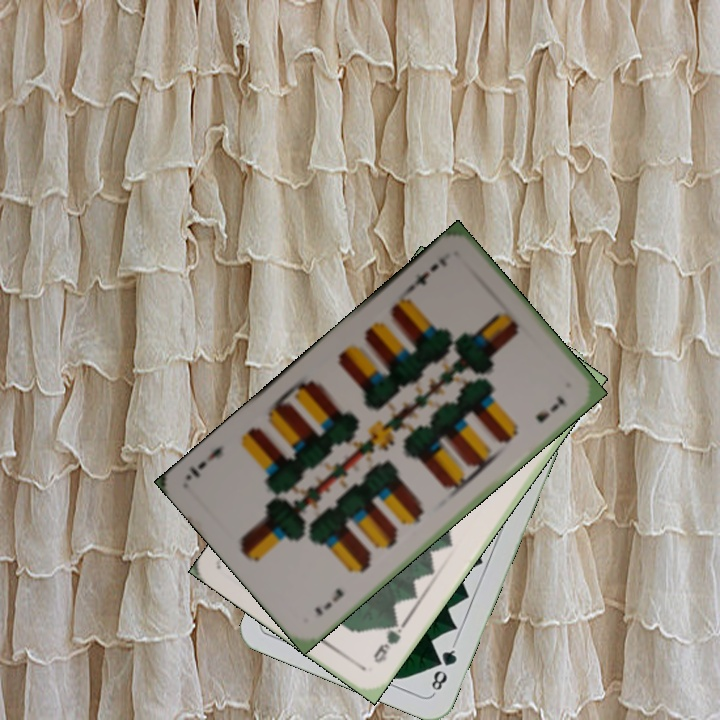E7: (404, 253, 450, 294), (311, 584, 347, 618)
G8: (427, 640, 460, 696)
G9: (369, 616, 407, 666)
